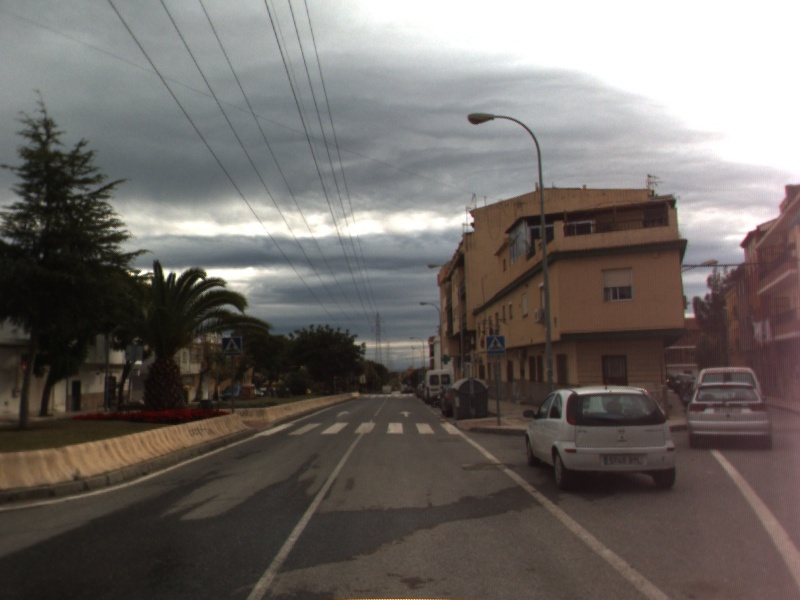STRAIGHT: (334, 408, 352, 419), (397, 409, 415, 419)
